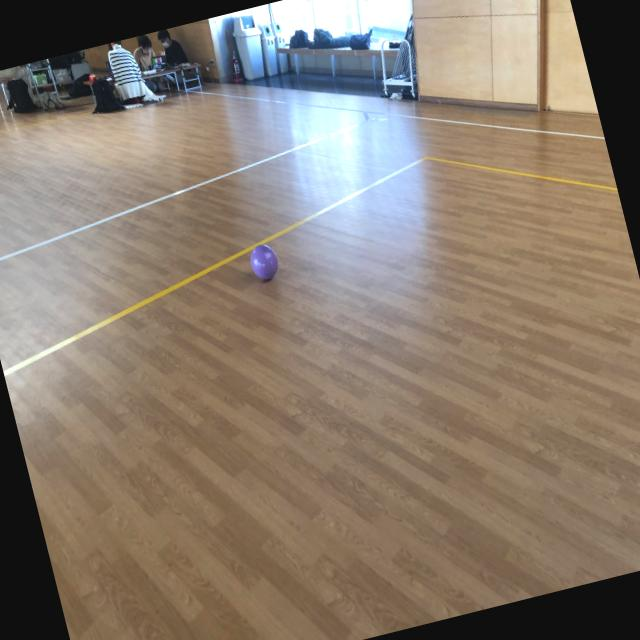purple_ball: (247, 240, 280, 284)
